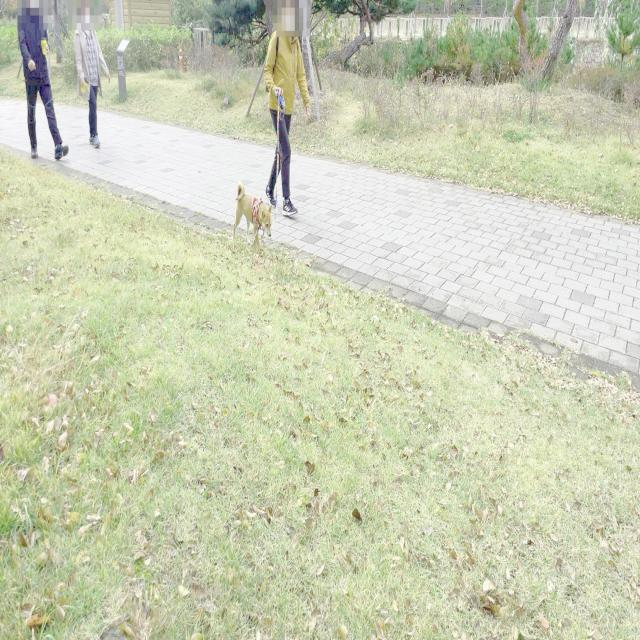Leashed_Dog: (232, 82, 288, 252)
